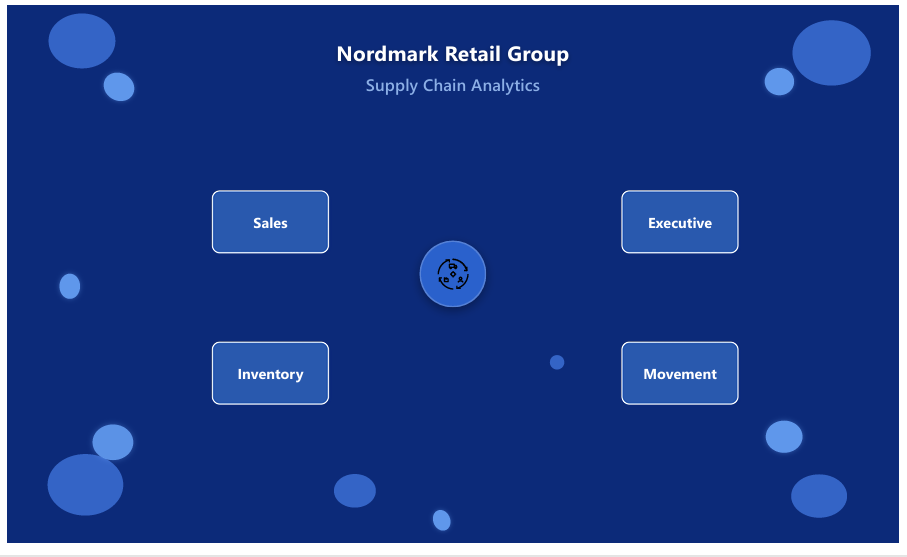

What the dashboard file says about the page in this screenshot:
{"tool":"powerbi","page":{"name":"Home Page","canvas":[2150,1300],"ordinal":0},"visuals":[{"type":"htmlContent443BE3AD55E043BF878BED274D3A6855","fields":{"content":["animation.LandingPage_HTML"]},"box":[0,0,2150,1300],"z":0},{"type":"actionButton","box":[486.7,440,300,170],"z":1000},{"type":"actionButton","box":[1470,440,300,170],"z":2000},{"type":"actionButton","box":[486.7,803.3,300,170],"z":3000},{"type":"actionButton","box":[1470,803.3,300,170],"z":4000}]}

Visuals, with their boxes in screenshot pixels (x1, y1, x2, y2), scaled from the page's 2150x1300 canvas onto the 907x557 screenshot:
htmlContent443BE3AD55E043BF878BED274D3A6855 - animation.LandingPage_HTML: crop(0, 0, 906, 556)
actionButton: crop(205, 189, 332, 261)
actionButton: crop(620, 189, 747, 261)
actionButton: crop(205, 344, 332, 417)
actionButton: crop(620, 344, 747, 417)
